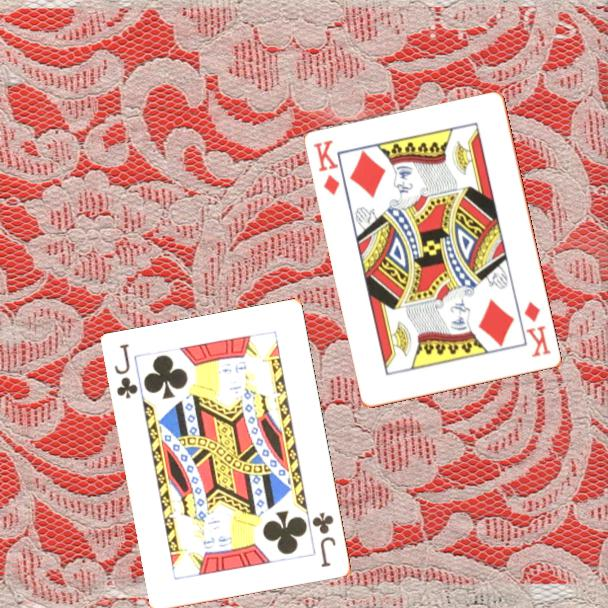c11: (111, 340, 141, 402), (309, 509, 339, 570)
d13: (521, 298, 554, 360), (310, 137, 343, 198)
